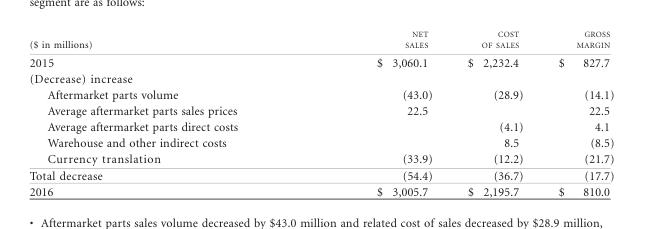table: (28, 29, 613, 197)
table column: (28, 29, 306, 197), (306, 29, 449, 197), (449, 29, 540, 197), (540, 29, 613, 197)
table column header: (28, 29, 613, 53)
table projected row header: (28, 70, 613, 86)
table row: (28, 29, 613, 53), (28, 53, 613, 70), (28, 134, 613, 151), (28, 70, 613, 86), (28, 86, 613, 102), (28, 102, 613, 118), (28, 118, 613, 134), (28, 151, 613, 167), (28, 167, 613, 183), (28, 183, 613, 197)
